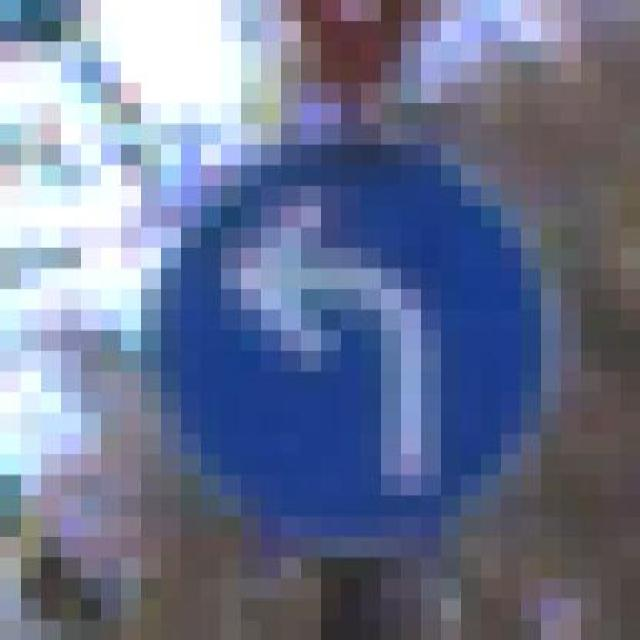Turn left ahead: (160, 103, 560, 557)
